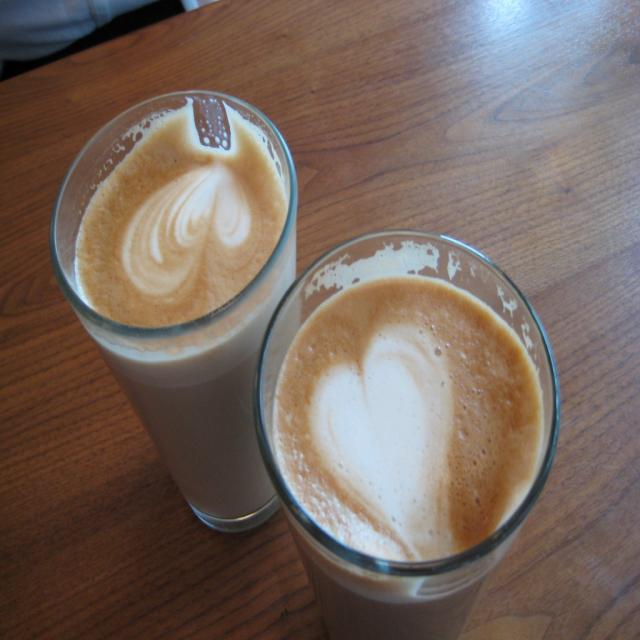Coffee: (254, 262, 559, 625), (77, 102, 299, 533)
